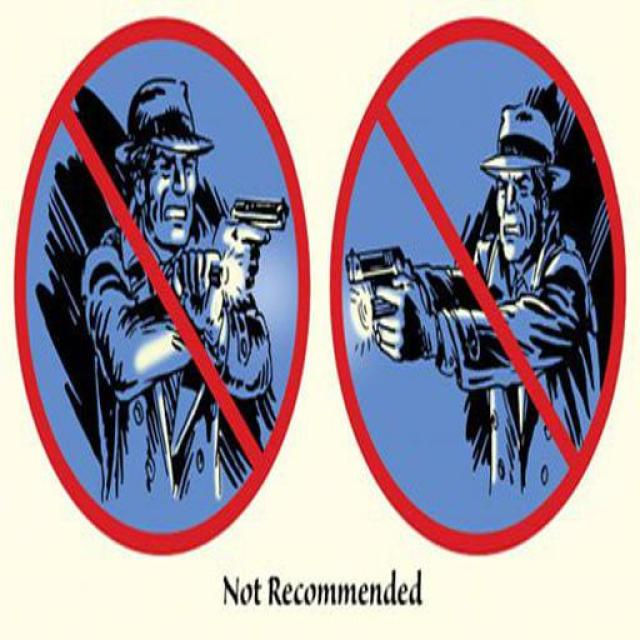pistol: (338, 244, 434, 353), (219, 185, 289, 330)
